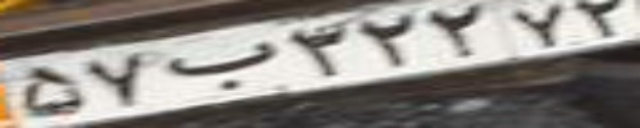2: (358, 13, 415, 68), (428, 3, 479, 56), (572, 0, 624, 38)
3: (292, 24, 345, 76)
5: (16, 65, 81, 116)
7: (87, 53, 147, 106), (511, 2, 563, 47)
be: (166, 42, 277, 92)
